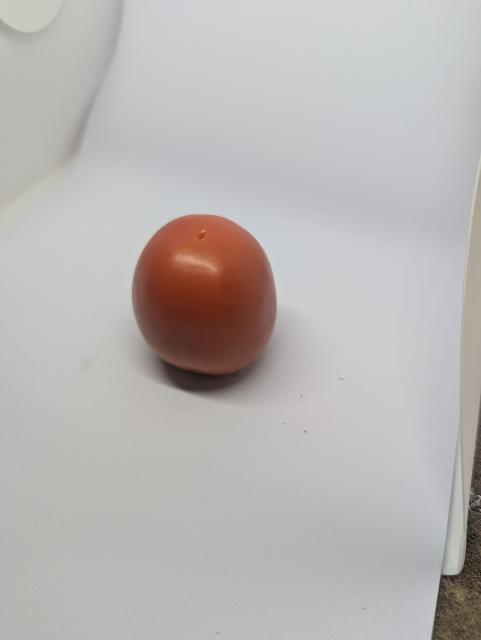red: (124, 207, 283, 379)
